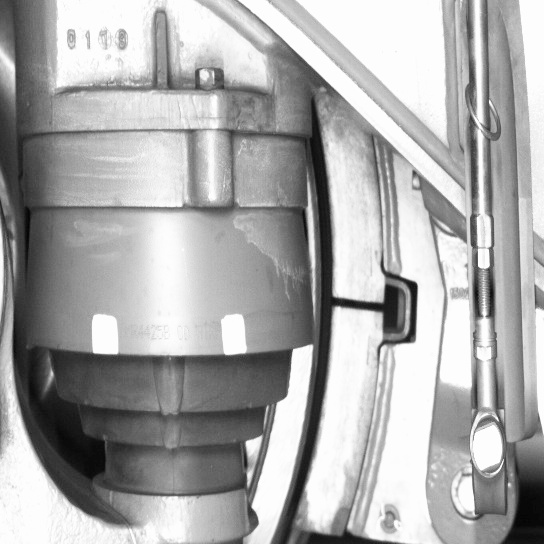KnifeSwitch: (269, 133, 391, 542)
